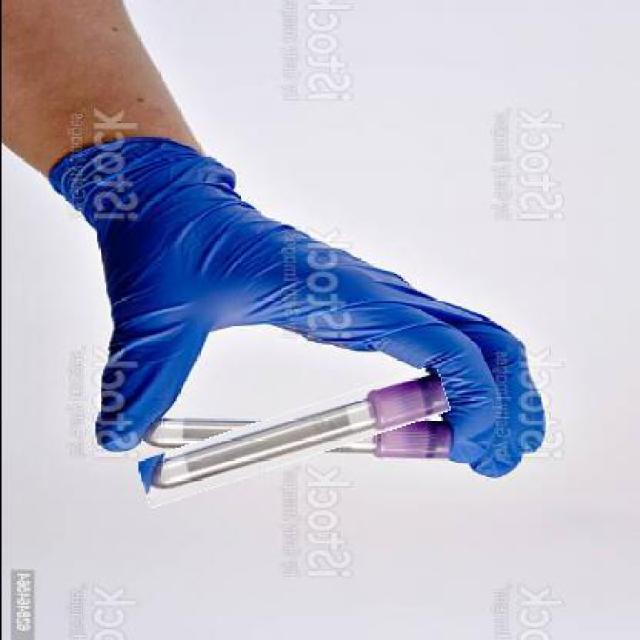Experimental-tube: (134, 389, 448, 483)
